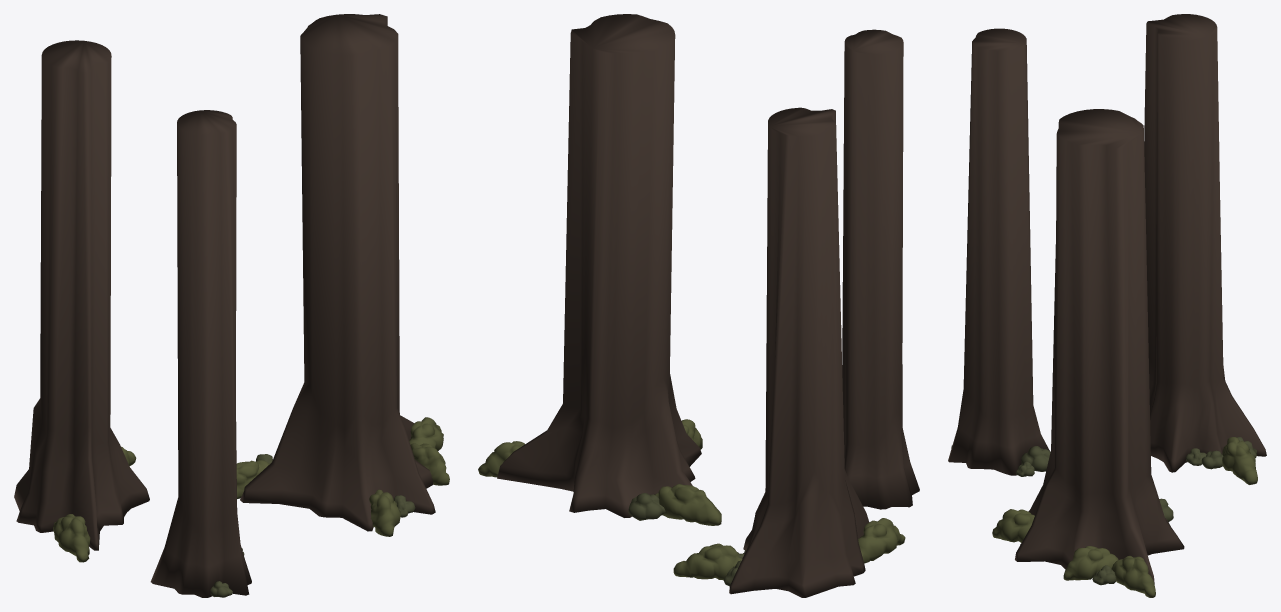
File: conjunto_arvores_e_arbustos01.fbx
The picture shows the model from 3 angles, left to right: view 1: azimuth 30°, elevation 25°; view 2: azimuth 150°, elevation 25°; view 3: azimuth 270°, elevation 25°; orthographic projection. The views are drawn at different scales.
Parts seen in each view (by area): view 1: arbusto_P_1.003, tronco02, arbusto_P_1; view 2: arbusto_P_1.003, tronco02, arbusto_P_1; view 3: arbusto_P_1.003, tronco02, arbusto_P_1.
Part boxes in pixels (x1,y1,x2,y2): arbusto_P_1.003: [236, 14, 449, 536]; tronco02: [14, 40, 149, 562]; arbusto_P_1: [150, 110, 251, 597]; arbusto_P_1.003: [478, 14, 721, 525]; tronco02: [673, 107, 905, 597]; arbusto_P_1: [842, 29, 919, 509]; arbusto_P_1.003: [992, 109, 1184, 597]; tronco02: [1144, 14, 1266, 484]; arbusto_P_1: [948, 28, 1050, 476].
Size of the model in its own units: 6977 by 9330 by 10047.
